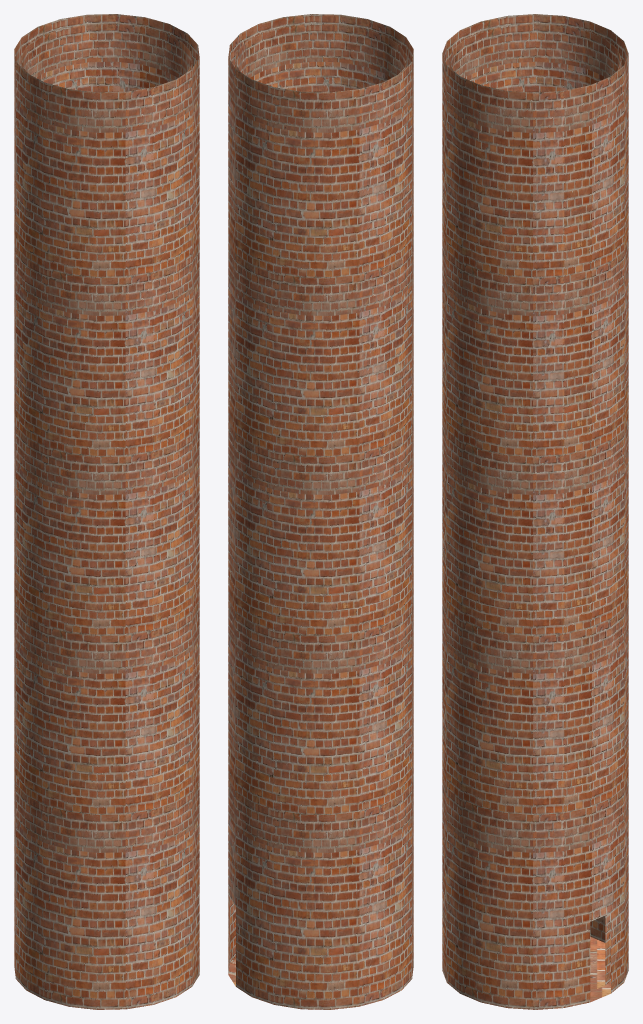
Rendered from tower.fbx.
3 renders of one model, left to right at view 1: azimuth 30°, elevation 25°; view 2: azimuth 150°, elevation 25°; view 3: azimuth 270°, elevation 25°, orthographic.
Parts seen in each view (by area): view 1: pCylinder1; view 2: pCylinder1; view 3: pCylinder1.
Part boxes in pixels (left/top/right/bottom): pCylinder1: left=14, top=14, right=199, bottom=1009; pCylinder1: left=228, top=14, right=413, bottom=1009; pCylinder1: left=442, top=14, right=628, bottom=1009.
Size of the model in its own units: 10.75 by 58.43 by 10.75.
1 material, 1 textured.
